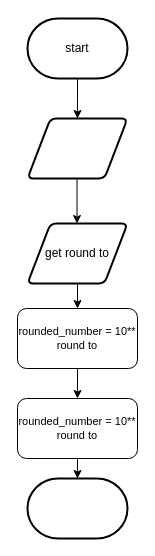
The diagram is 155 pixels wide and 556 high, and some of its shapes have lost their labels. The centre of each missing label's shape, as x and y in pixels:
"end" goes at point (77, 508).
"get number" goes at point (77, 148).
